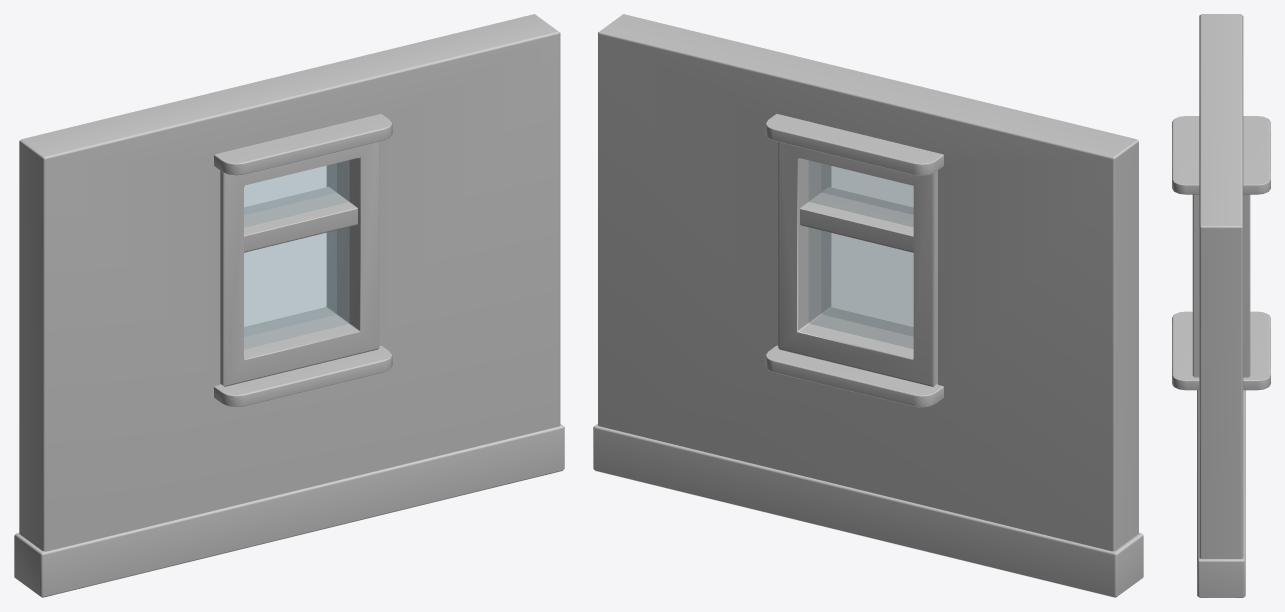
The model's file is Wall_45.fbx.
3 views of the same model, side by side, from view 1: azimuth 30°, elevation 25°; view 2: azimuth 150°, elevation 25°; view 3: azimuth 270°, elevation 25° (orthographic). The views are drawn at different scales.
Parts seen in each view (by area): view 1: Wall_45; view 2: Wall_45; view 3: Wall_45.
Part boxes in pixels (left/top/right/bottom): Wall_45: left=14, top=14, right=564, bottom=597; Wall_45: left=593, top=14, right=1143, bottom=597; Wall_45: left=1172, top=14, right=1270, bottom=597.
Bounding box in the file's own units: 466 × 373 × 90.27.
